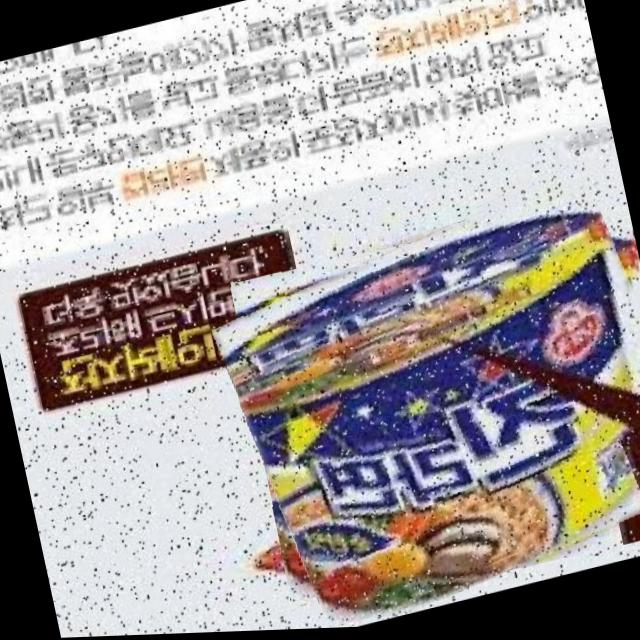Miscellaneous: (210, 169, 640, 634)
